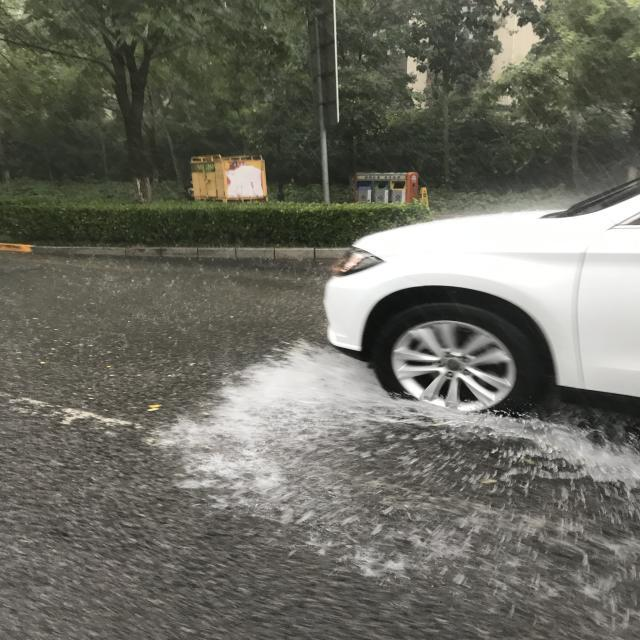car: (176, 1, 414, 316)
